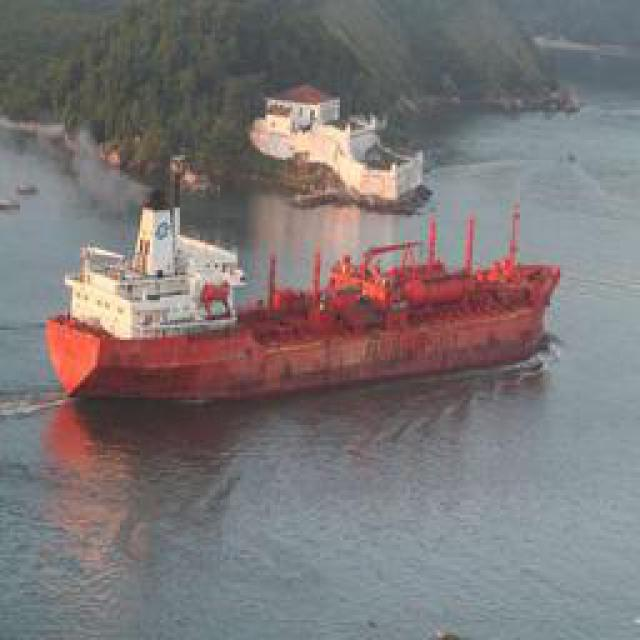Ship: (48, 197, 563, 407)
